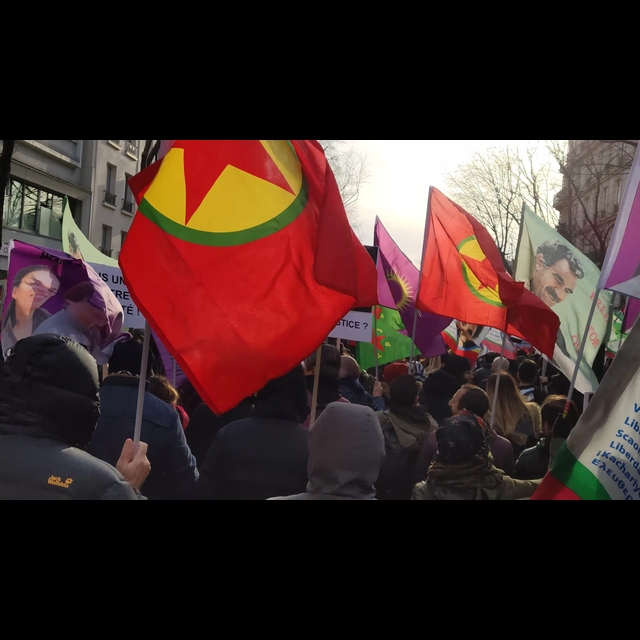PKK: (134, 139, 313, 249)
